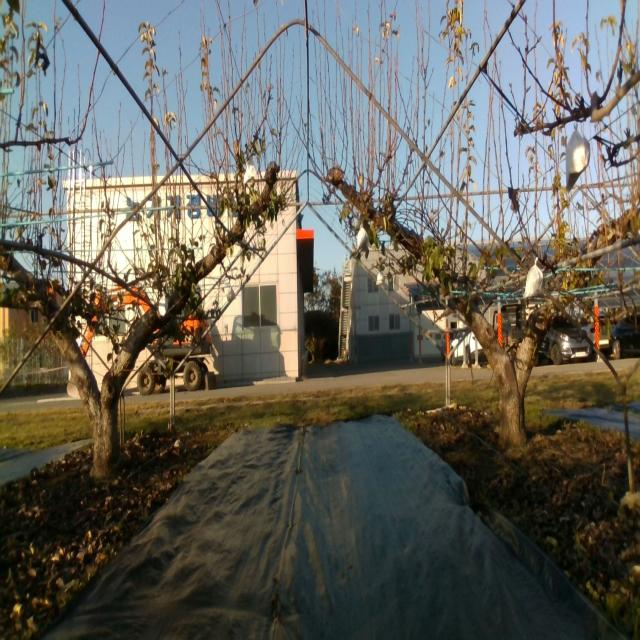pearbags: (565, 125, 592, 200), (524, 256, 544, 298), (242, 155, 260, 183), (158, 295, 168, 316)
